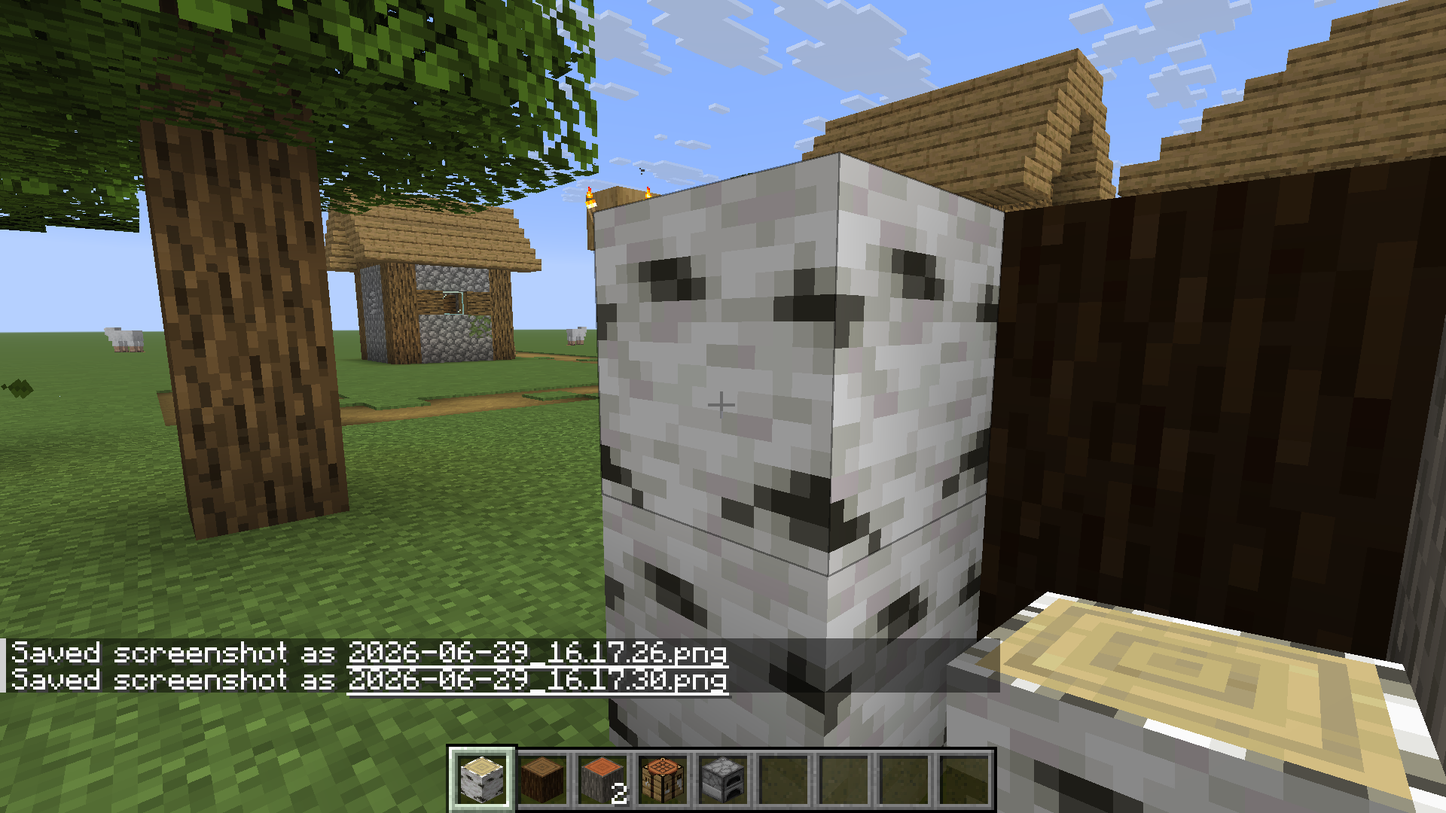Sheep: (104, 322, 148, 363), (568, 319, 590, 352)
Torch: (583, 184, 600, 213)
Tree: (0, 0, 593, 536)
wood 3: (1009, 216, 1406, 574)
wood 4: (593, 205, 970, 613)
